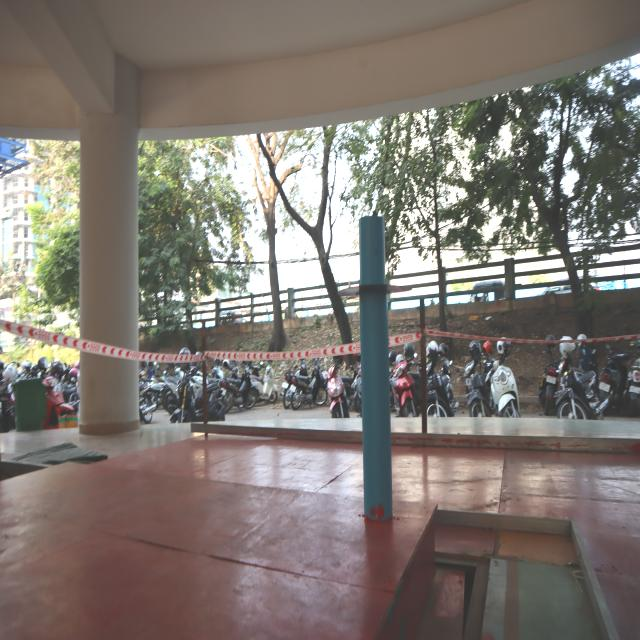pole: (330, 202, 410, 386)
